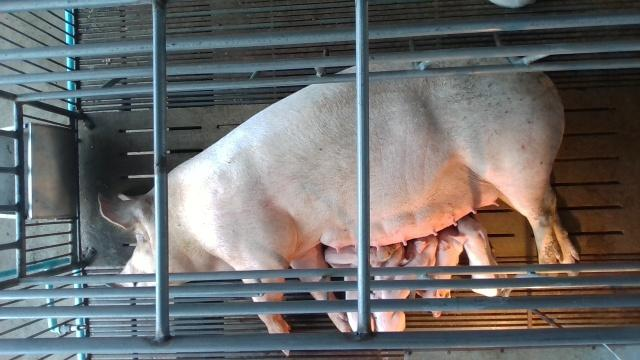piglet: (451, 214, 507, 296), (416, 228, 467, 318), (382, 232, 437, 299), (324, 243, 401, 268), (344, 276, 375, 332)
sow-sleep-lactate: (97, 57, 582, 357)
